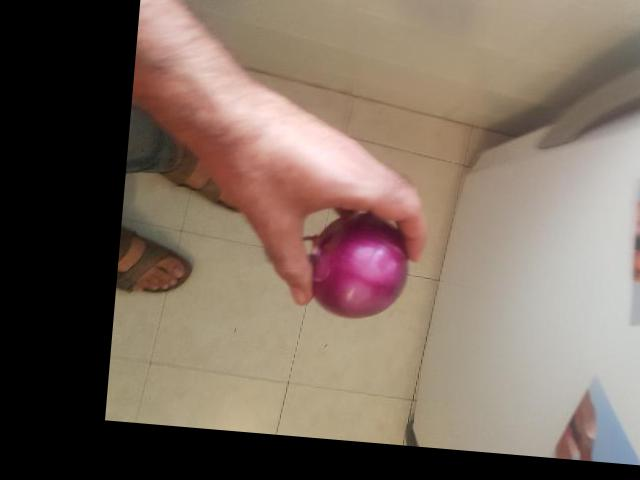onion: (302, 213, 413, 317)
